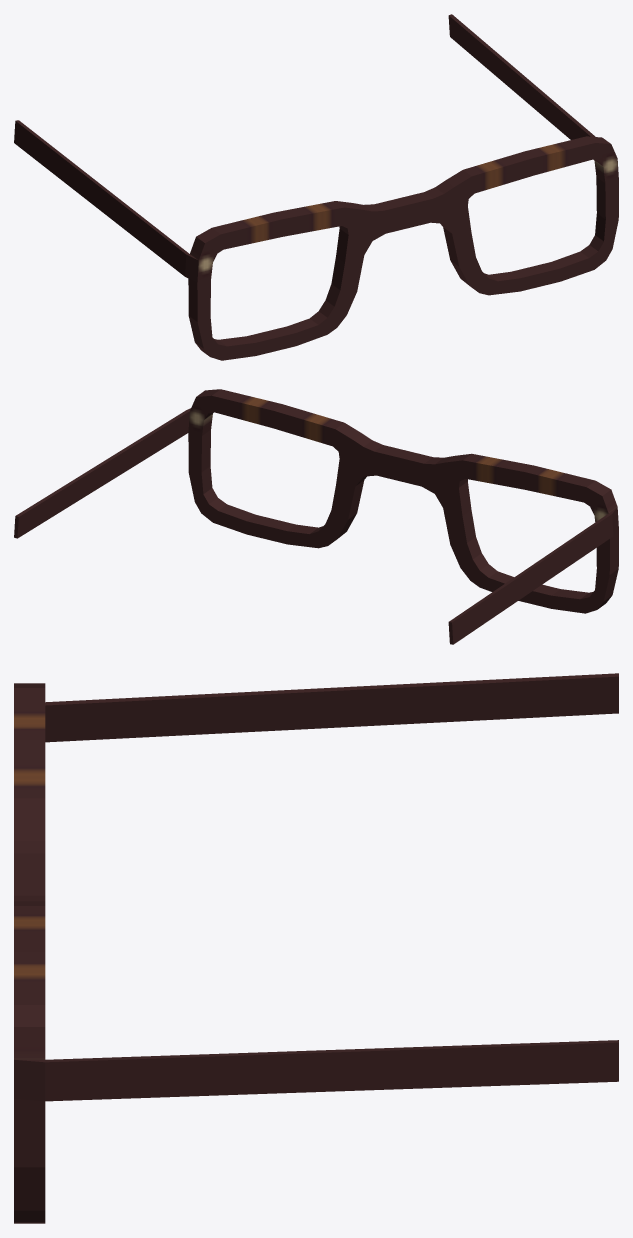
The model's file is top_acc_10.FBX.
3 views of the same model, one above another, from view 1: azimuth 30°, elevation 25°; view 2: azimuth 150°, elevation 25°; view 3: azimuth 270°, elevation 25° (orthographic). The views are drawn at different scales.
Parts seen in each view (by area): view 1: top_acc_10; view 2: top_acc_10; view 3: top_acc_10.
Part boxes in pixels (<box>): top_acc_10: <box>14,14,618,360</box>; top_acc_10: <box>14,389,618,644</box>; top_acc_10: <box>14,673,618,1223</box>.
Bounding box in the file's own units: 27.13 × 7.69 × 18.66.
